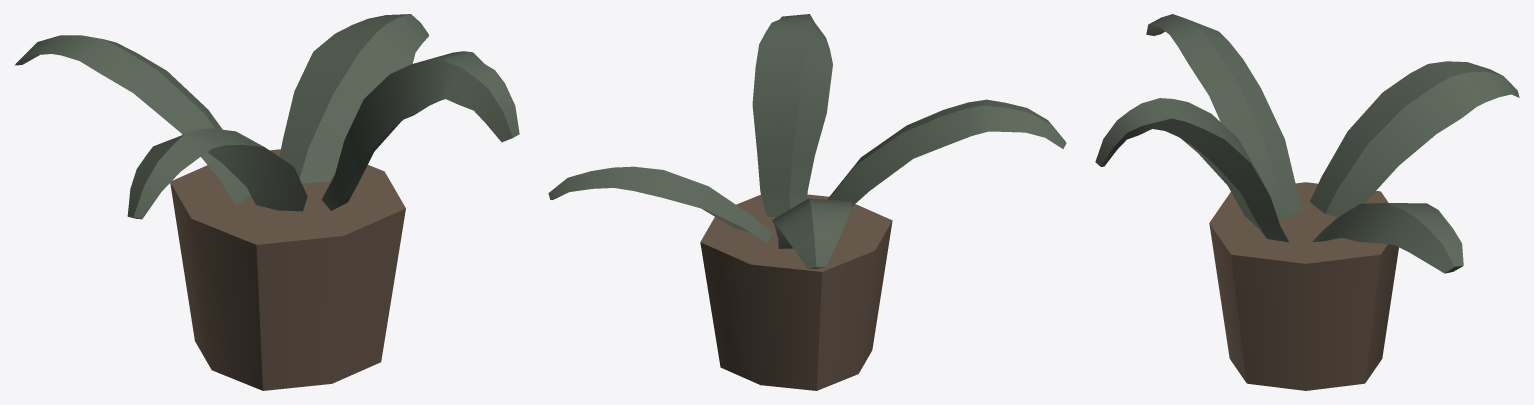
The model's file is prop export - potted plant 1.fbx.
The picture shows the model from 3 angles, left to right: view 1: azimuth 30°, elevation 25°; view 2: azimuth 150°, elevation 25°; view 3: azimuth 270°, elevation 25°; orthographic projection. The views are drawn at different scales.
Visible parts, largest first — view 1: plaunt; view 2: plaunt; view 3: plaunt.
Boxes of the visible parts, left/top/right/bottom form: plaunt: left=15, top=14, right=519, bottom=390; plaunt: left=548, top=14, right=1066, bottom=390; plaunt: left=1095, top=14, right=1519, bottom=390.
Size of the model in its own units: 88.21 by 60.9 by 80.57.
